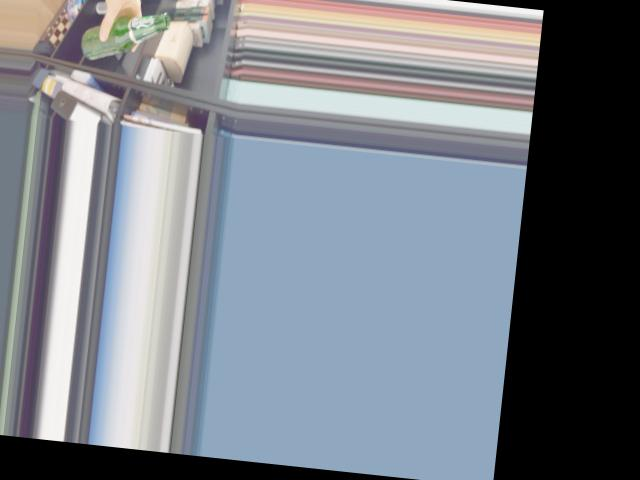beer: (79, 4, 170, 68)
